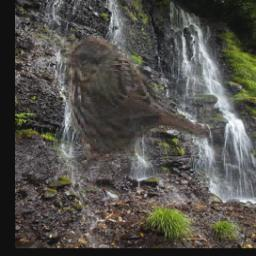Sparrow: (61, 33, 211, 175)
